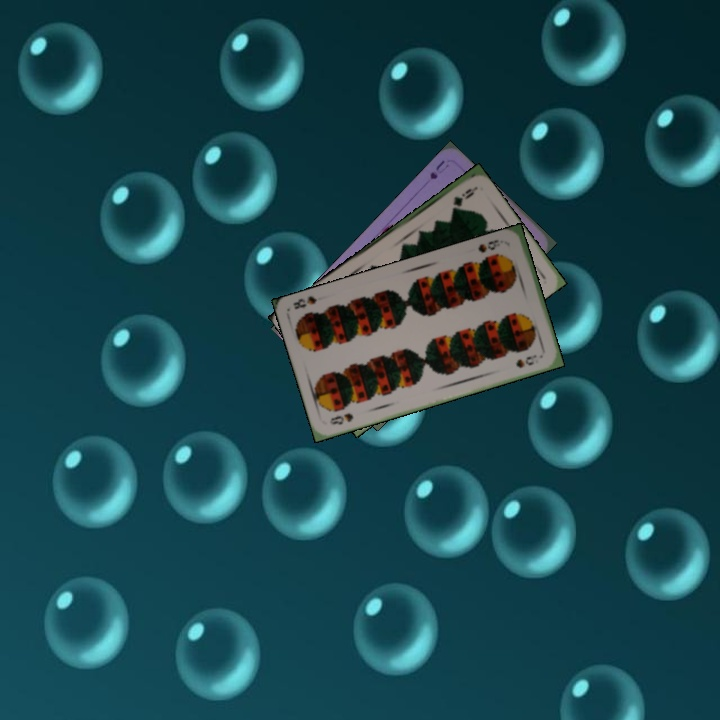G9: (449, 184, 476, 208)
S8: (474, 235, 502, 255), (325, 409, 356, 427)
SU: (426, 156, 452, 182)
